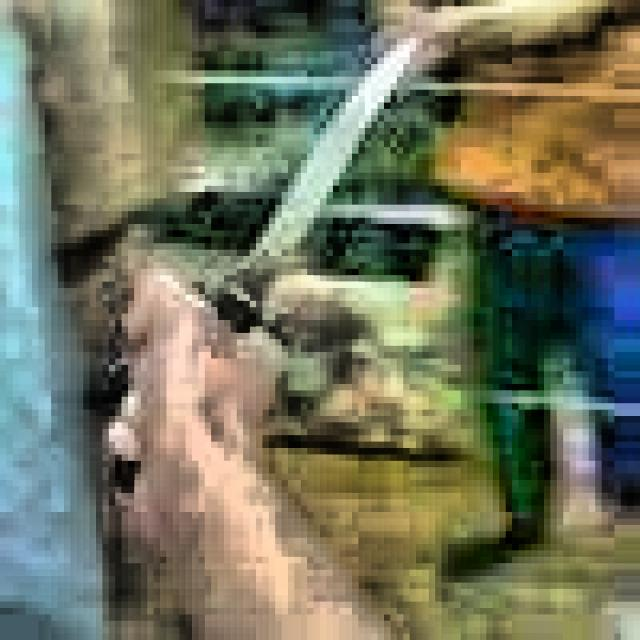knife: (119, 44, 416, 482)
